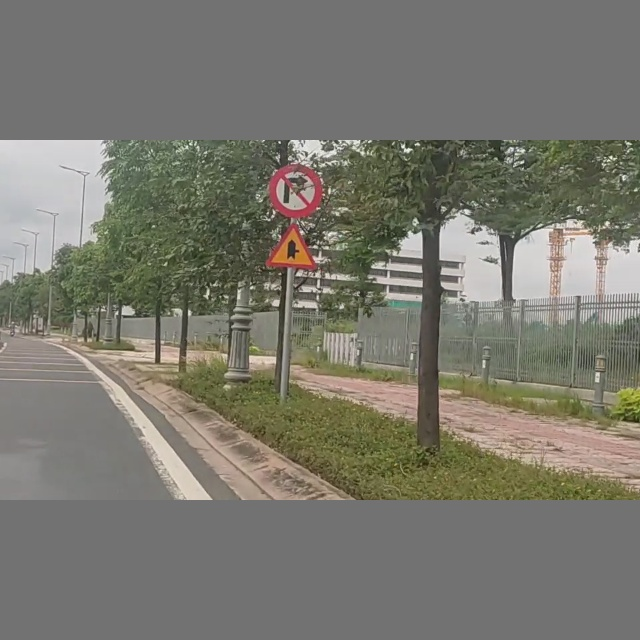P.123b: (267, 163, 322, 218)
W.207: (267, 219, 321, 271)
